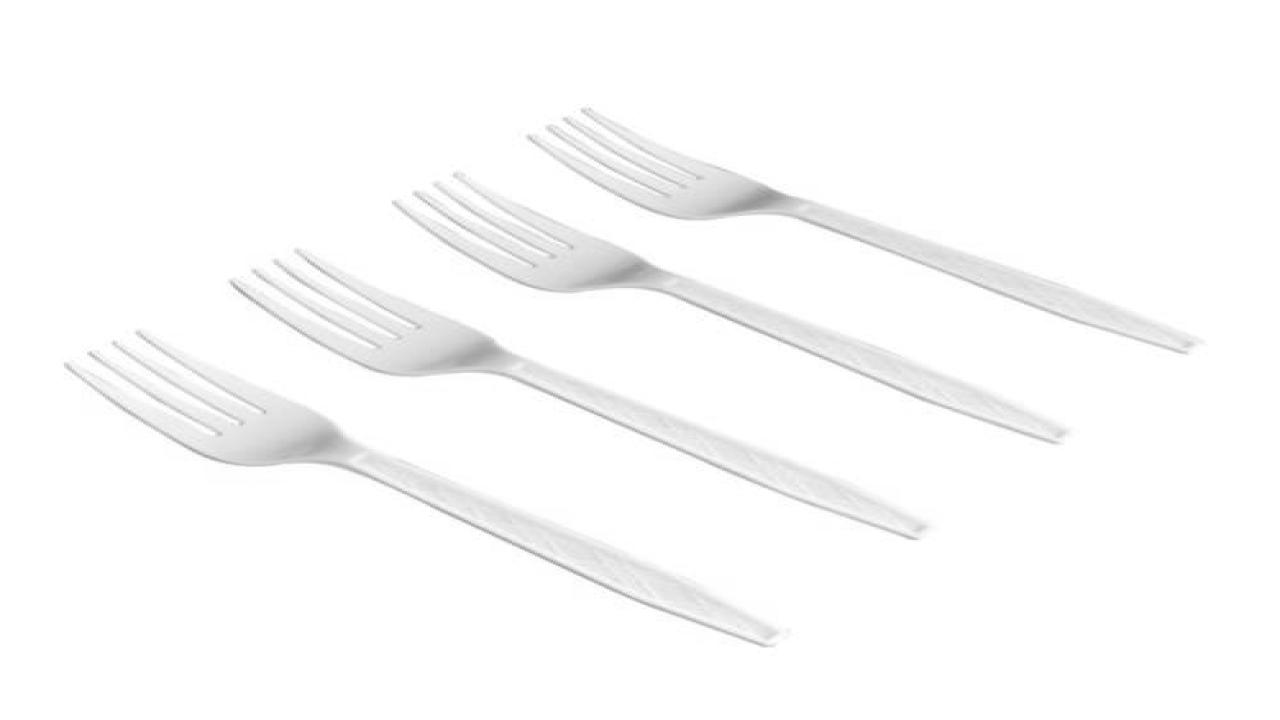fork: (59, 329, 783, 646), (225, 245, 927, 540), (387, 168, 1068, 443), (522, 104, 1201, 354)
